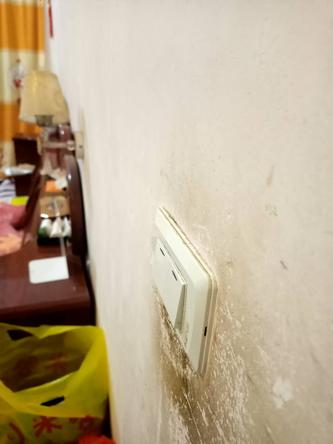switch: (152, 245, 182, 328)
